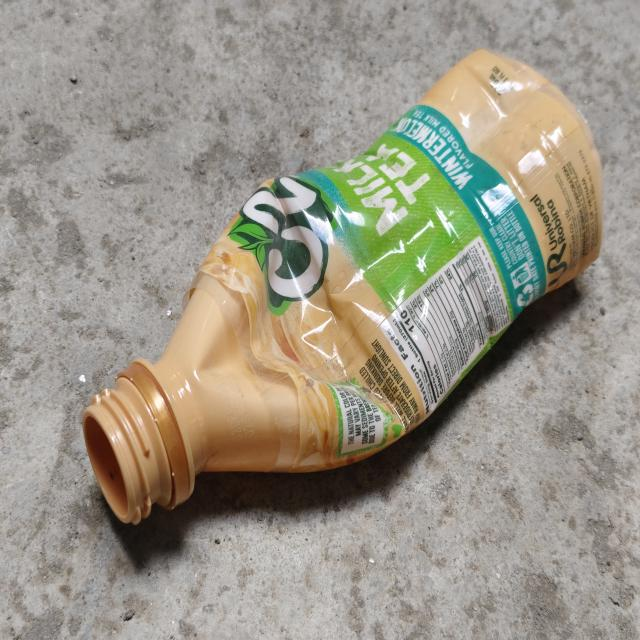Bottle: (82, 50, 603, 524)
